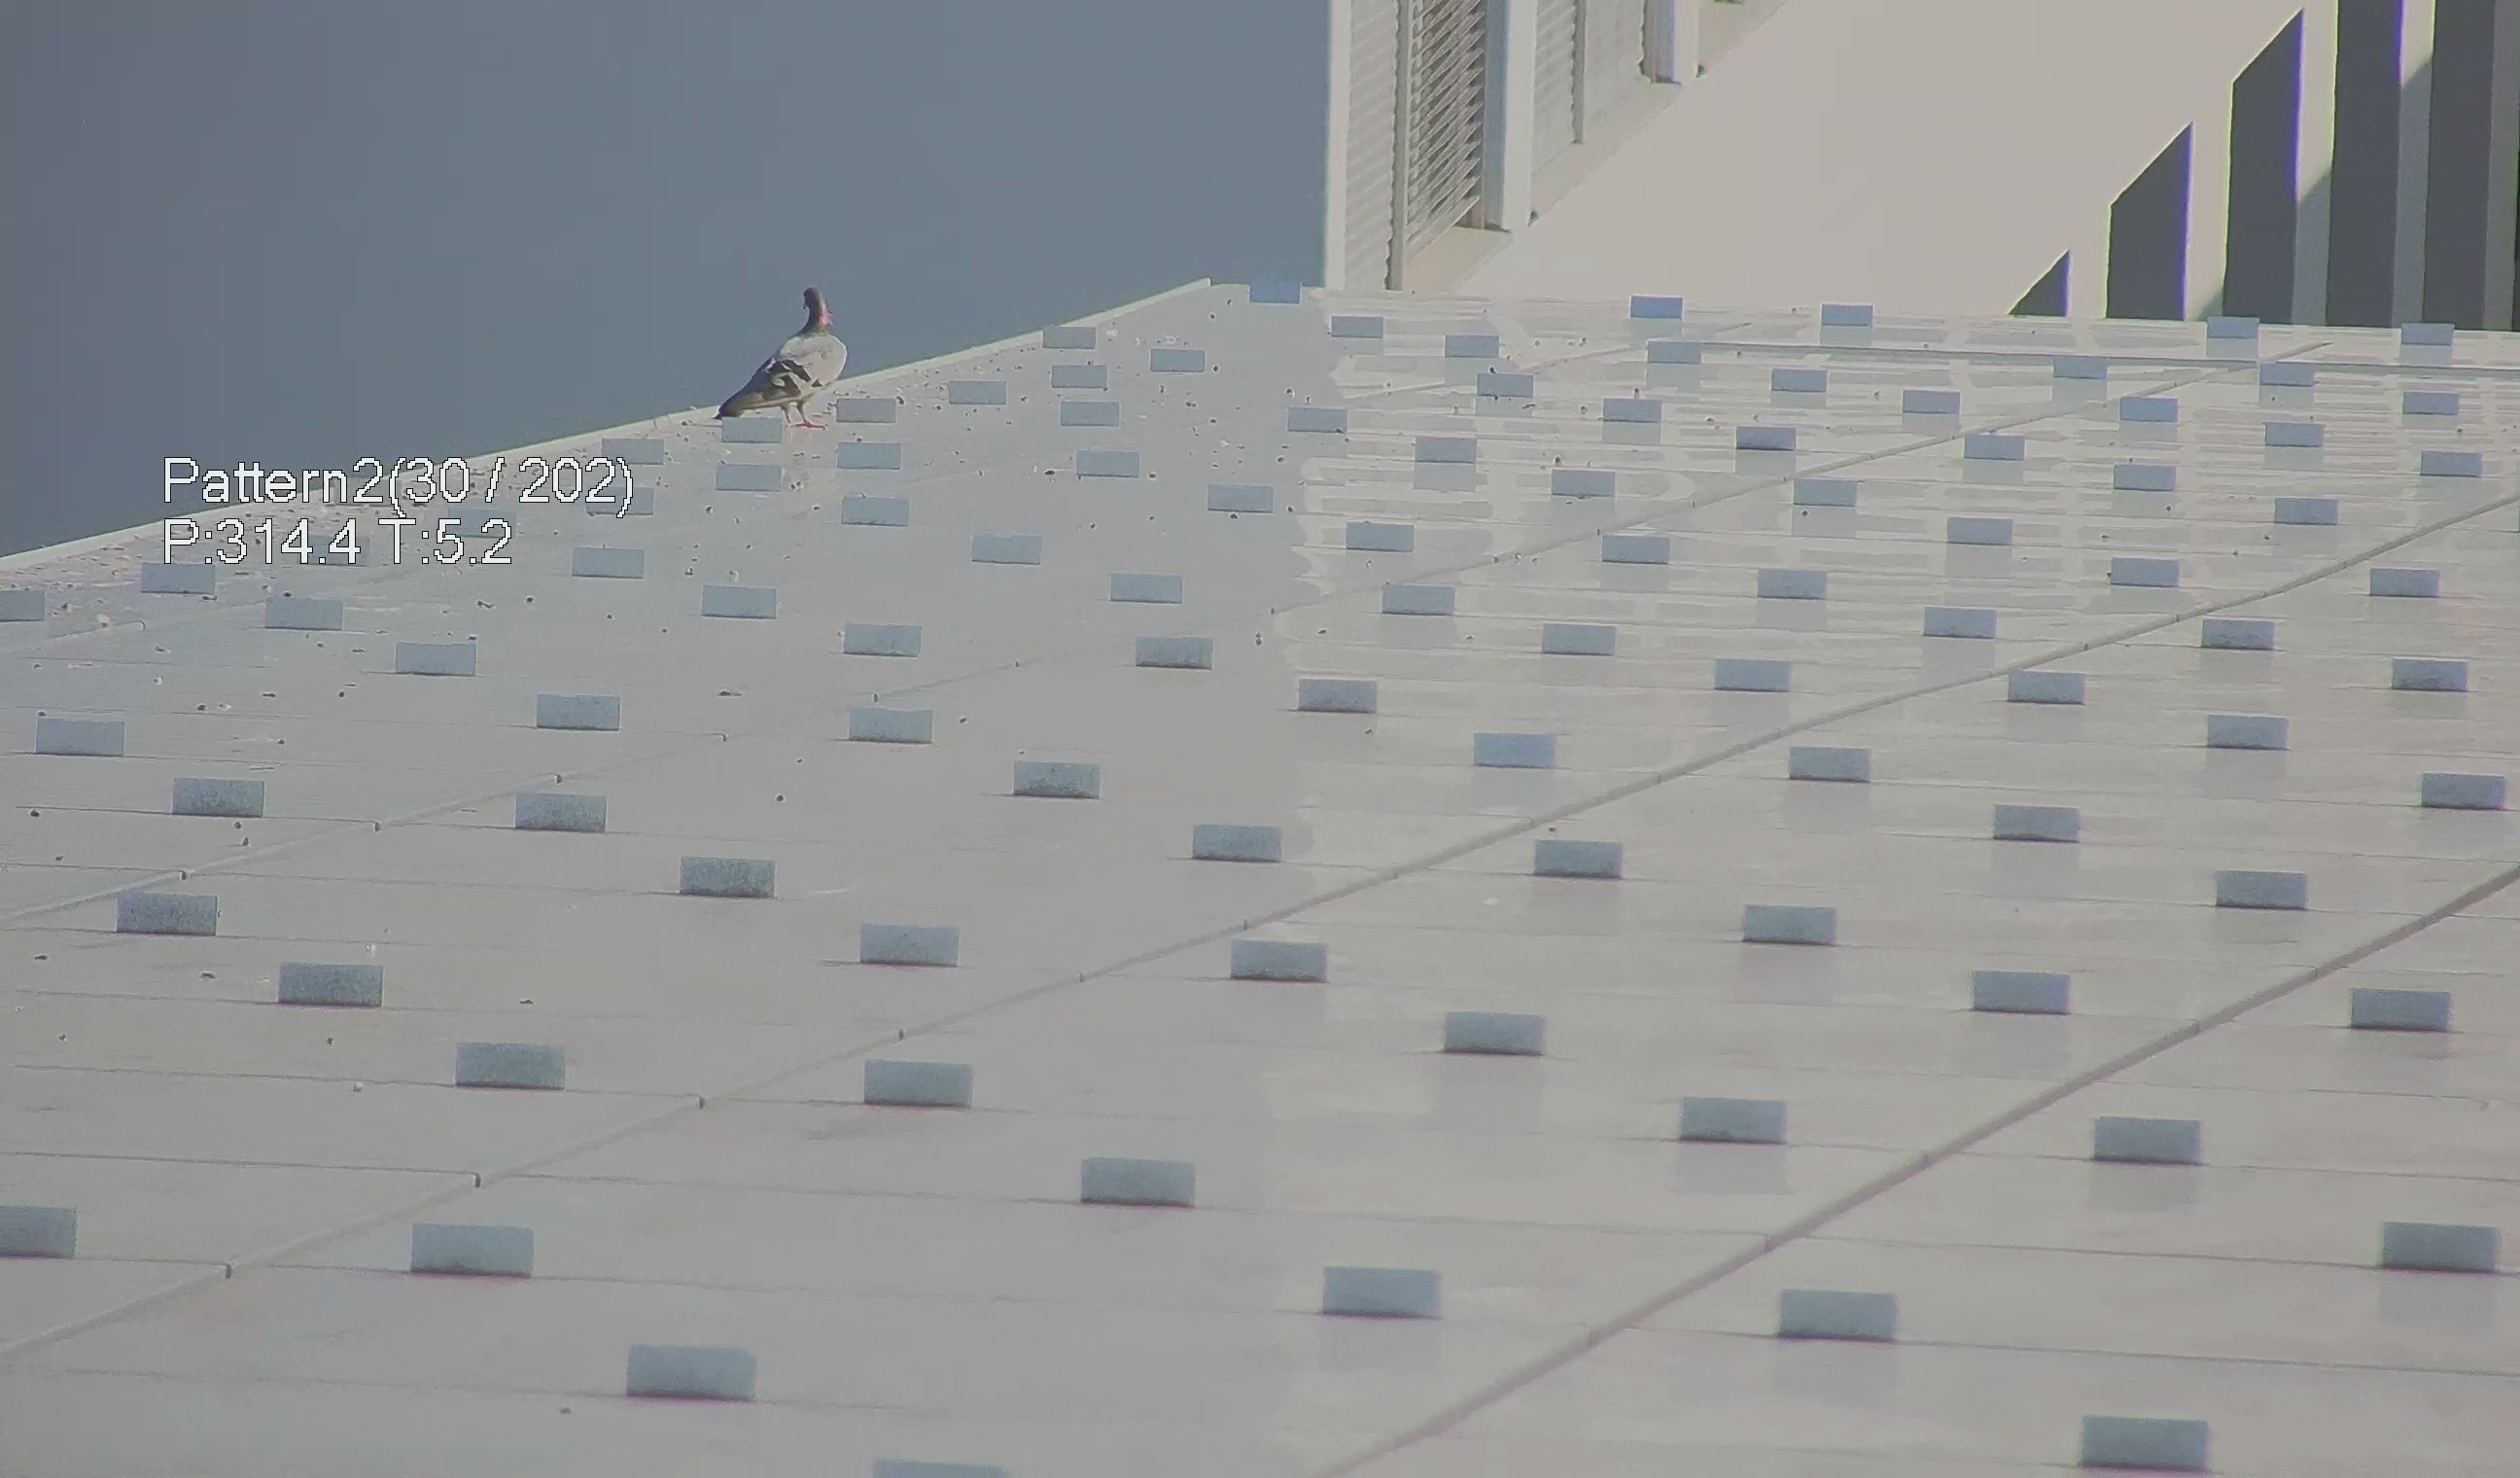Pigeon: (693, 285, 848, 438)
